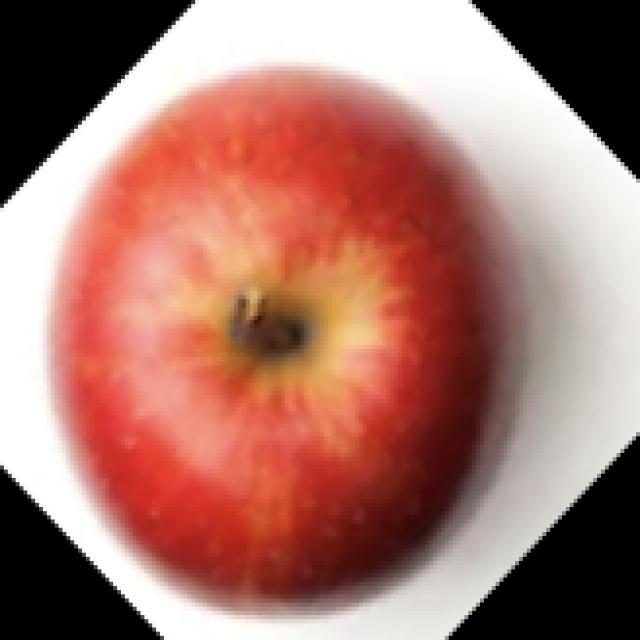Fresh Apple: (54, 55, 514, 640)
